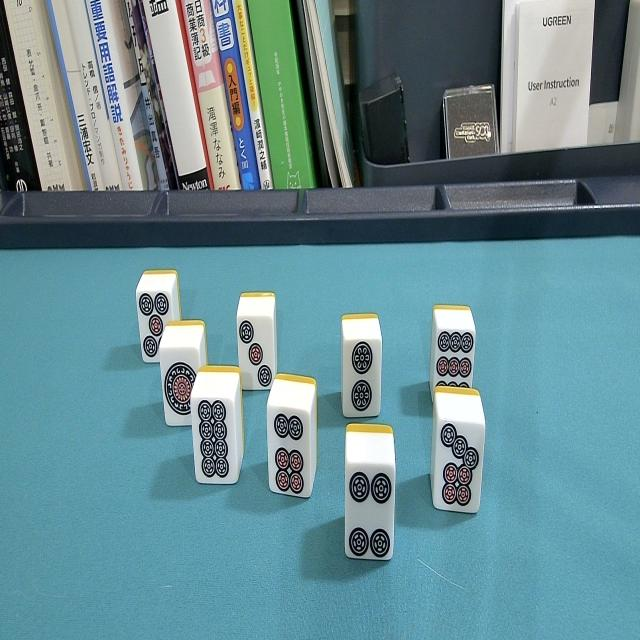1_pin: (158, 319, 206, 433)
2_pin: (339, 311, 383, 430)
3_pin: (235, 290, 281, 400)
4_pin: (342, 420, 398, 563)
5_pin: (134, 268, 180, 370)
6_pin: (264, 371, 318, 508)
7_pin: (427, 388, 487, 520)
8_pin: (189, 364, 245, 496)
9_pin: (432, 302, 478, 412)
